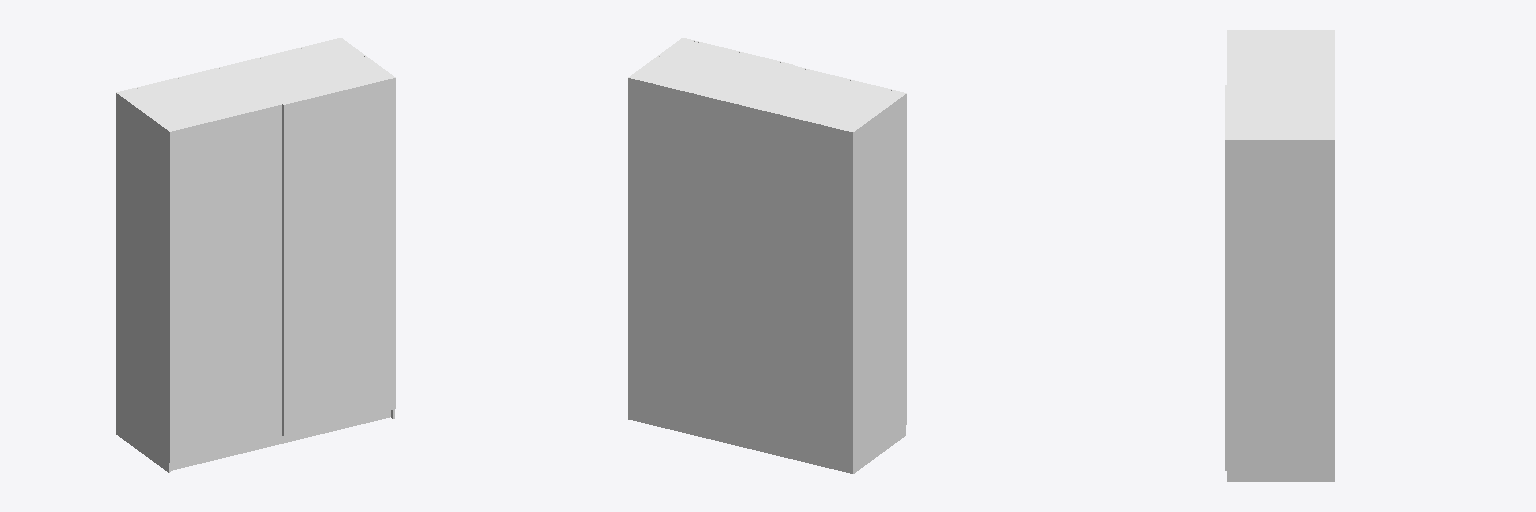
The model's file is SATTRUP.obj.
3 views of the same model, side by side, from view 1: azimuth 30°, elevation 25°; view 2: azimuth 150°, elevation 25°; view 3: azimuth 270°, elevation 25° (orthographic).
Parts seen in each view (by area): view 1: Куб.001; view 2: Куб.001; view 3: Куб.001.
Boxes of the visible parts, box(x1,y1,x2,y2) form: Куб.001: box(116, 38, 395, 472); Куб.001: box(628, 38, 906, 473); Куб.001: box(1225, 30, 1334, 481).
Size of the model in its own units: 3.02 by 4.38 by 1.27.